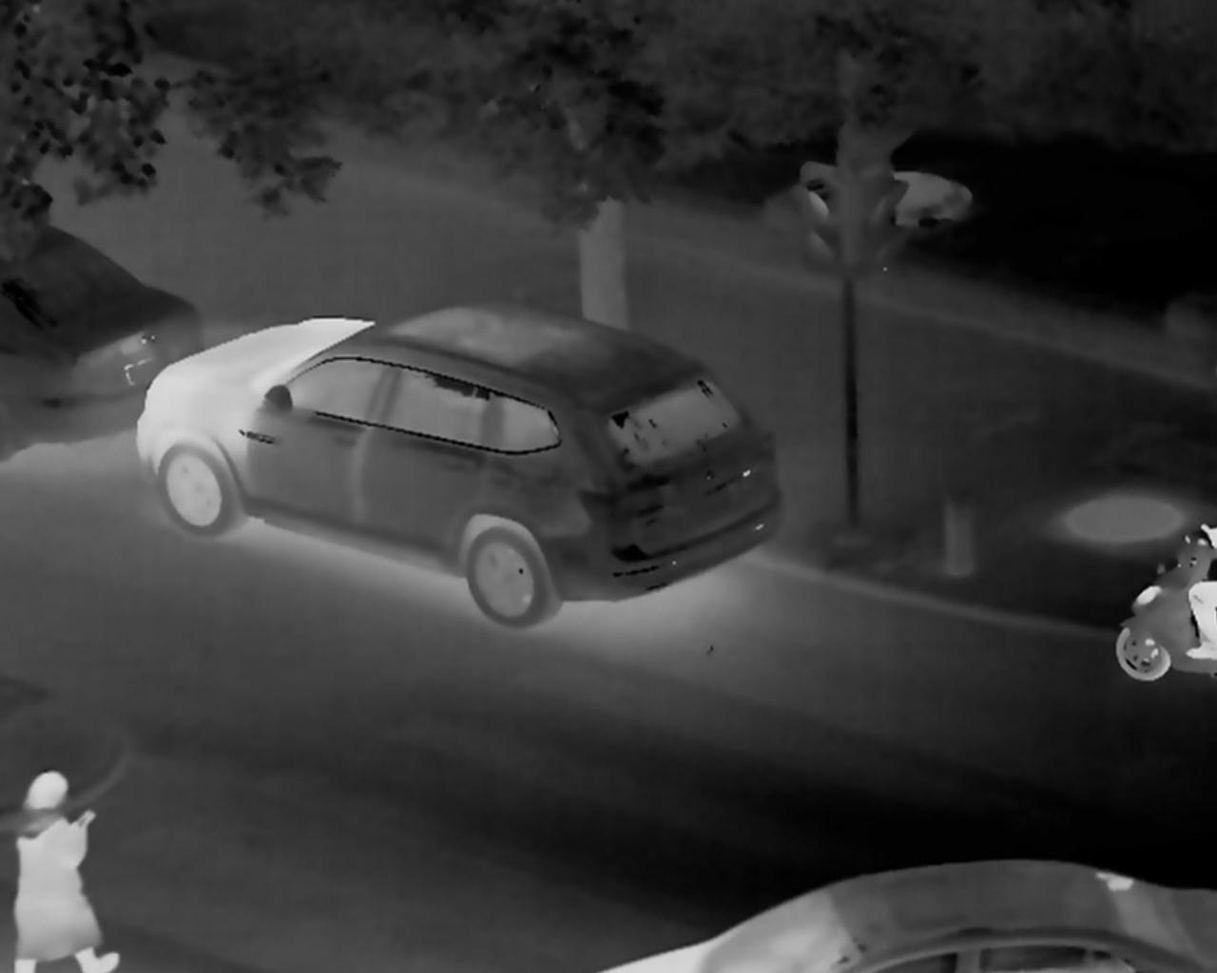person: (14, 765, 124, 973), (1174, 503, 1217, 682)
